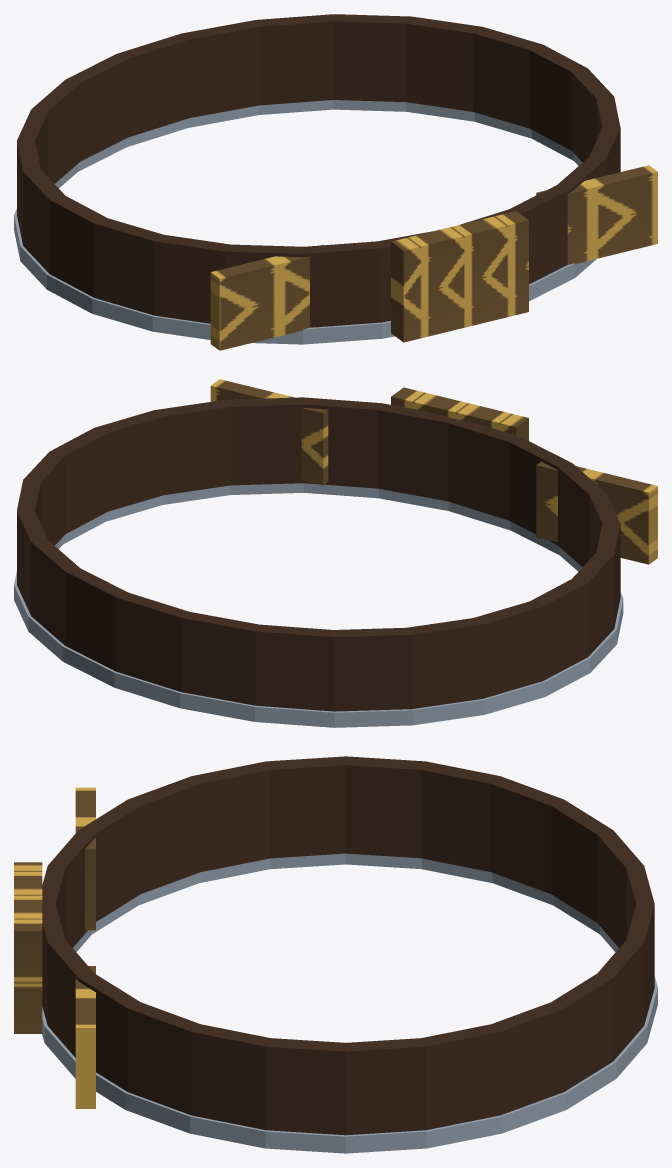
The model's file is enano_cinto_2.glb.
The picture shows the model from 3 angles, top to bottom: view 1: azimuth 30°, elevation 25°; view 2: azimuth 150°, elevation 25°; view 3: azimuth 270°, elevation 25°; orthographic projection. The views are drawn at different scales.
Parts seen in each view (by area): view 1: enano_cinto_2; view 2: enano_cinto_2; view 3: enano_cinto_2.
Boxes of the visible parts, x1,y1,x2,y2 form: enano_cinto_2: (14,14,657,350); enano_cinto_2: (14,379,657,727); enano_cinto_2: (14,756,657,1153).
Size of the model in its own units: 0.868 by 0.1465 by 0.7925.
1 material, 1 textured.
